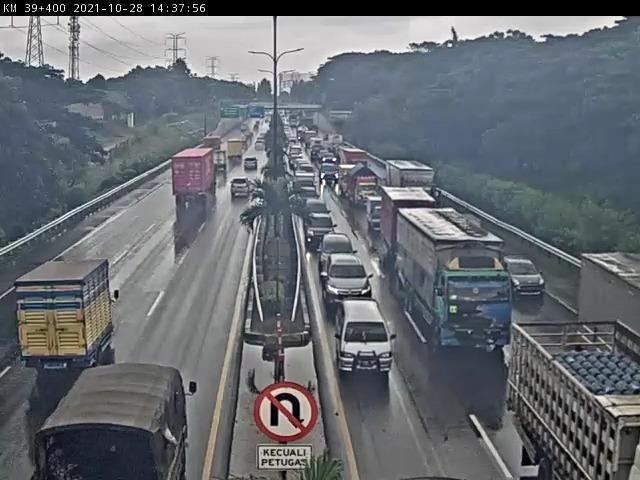car: (331, 293, 401, 371), (319, 247, 376, 300), (495, 249, 541, 295), (311, 233, 353, 258), (309, 212, 342, 240), (224, 180, 247, 211), (243, 159, 259, 177)
truck: (494, 306, 640, 480), (399, 202, 508, 352), (1, 259, 137, 366), (163, 150, 212, 221), (227, 139, 245, 164), (203, 134, 224, 153)
